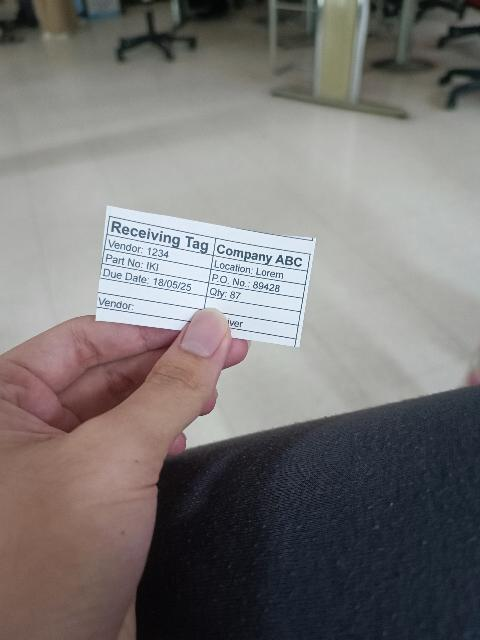PO no: (209, 270, 305, 299)
part no: (102, 249, 211, 282)
qty: (207, 283, 303, 311)
tags: (96, 206, 315, 347)
